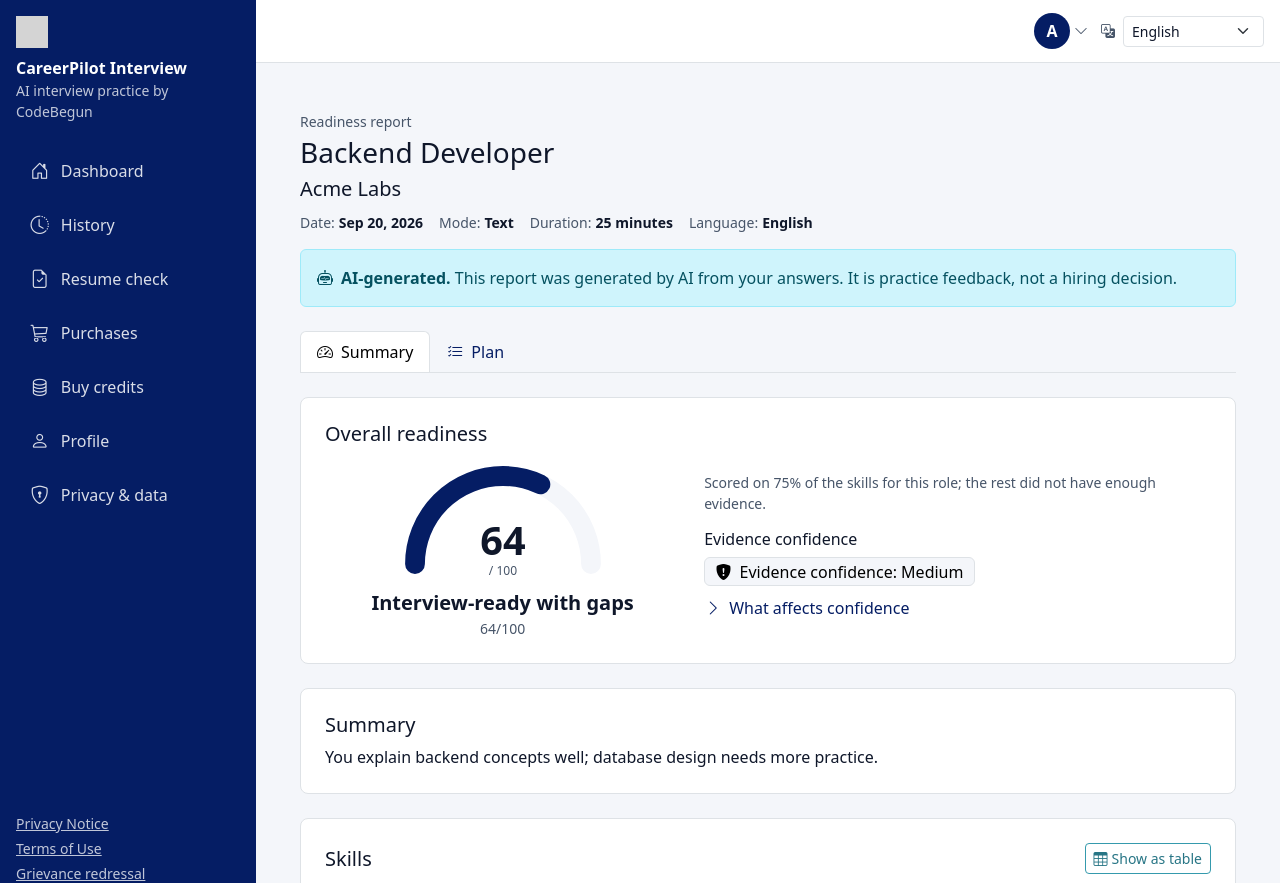
Scenario: readiness report › shows the header, disclaimer, gauge with band text and the confidence chip
Expected: the heading "Backend Developer" is shown, [300, 133, 554, 171]
Expected: the text "Acme Labs" is shown, [300, 175, 401, 202]
Click the button "What affects confidence" at coordinates (807, 608), box [704, 595, 910, 621]
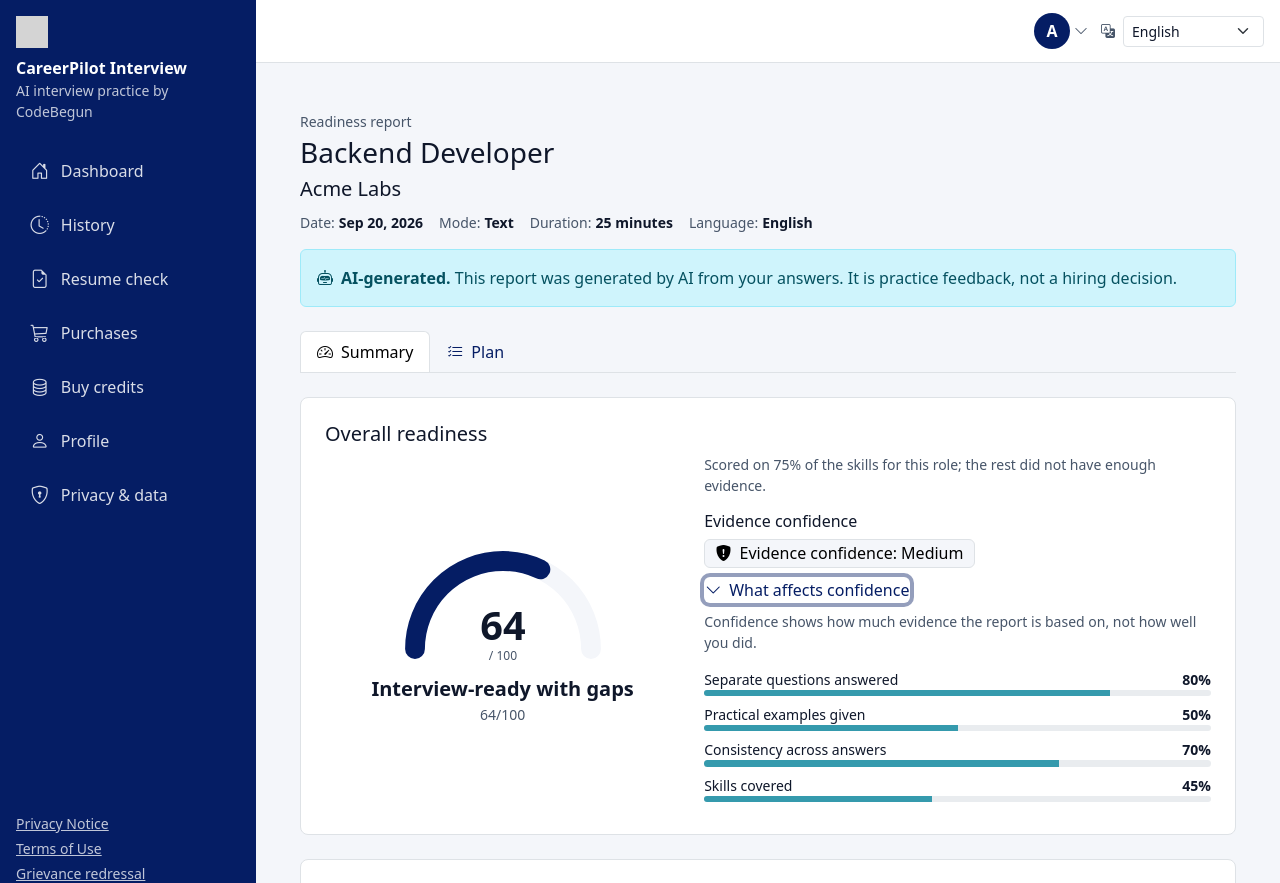
Expected: the button "What affects confidence" is expanded, [704, 577, 910, 603]
Expected: the text "Separate questions answered" is shown, [704, 669, 898, 690]
